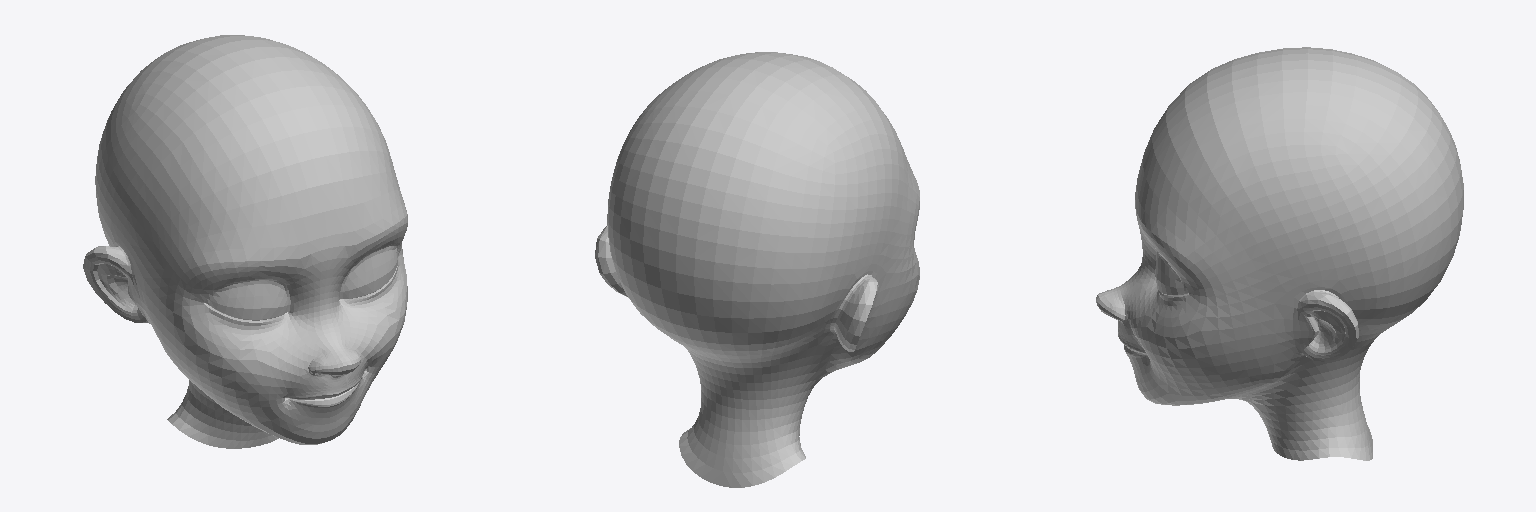
The model's file is pos8.obj.
The picture shows the model from 3 angles: view 1: azimuth 30°, elevation 25°; view 2: azimuth 150°, elevation 25°; view 3: azimuth 270°, elevation 25°; orthographic projection.
Parts seen in each view (by area): view 1: Mesh; view 2: Mesh; view 3: Mesh.
Part boxes in pixels (x1,y1,x2,y2): Mesh: (83,35,407,448); Mesh: (595,52,919,487); Mesh: (1096,47,1463,460).
Size of the model in its own units: 23.75 by 32.31 by 27.53.